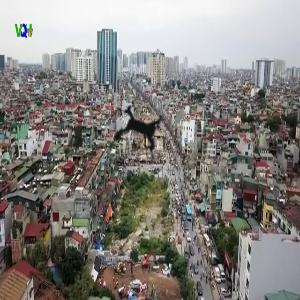drone: (86, 79, 194, 187)
